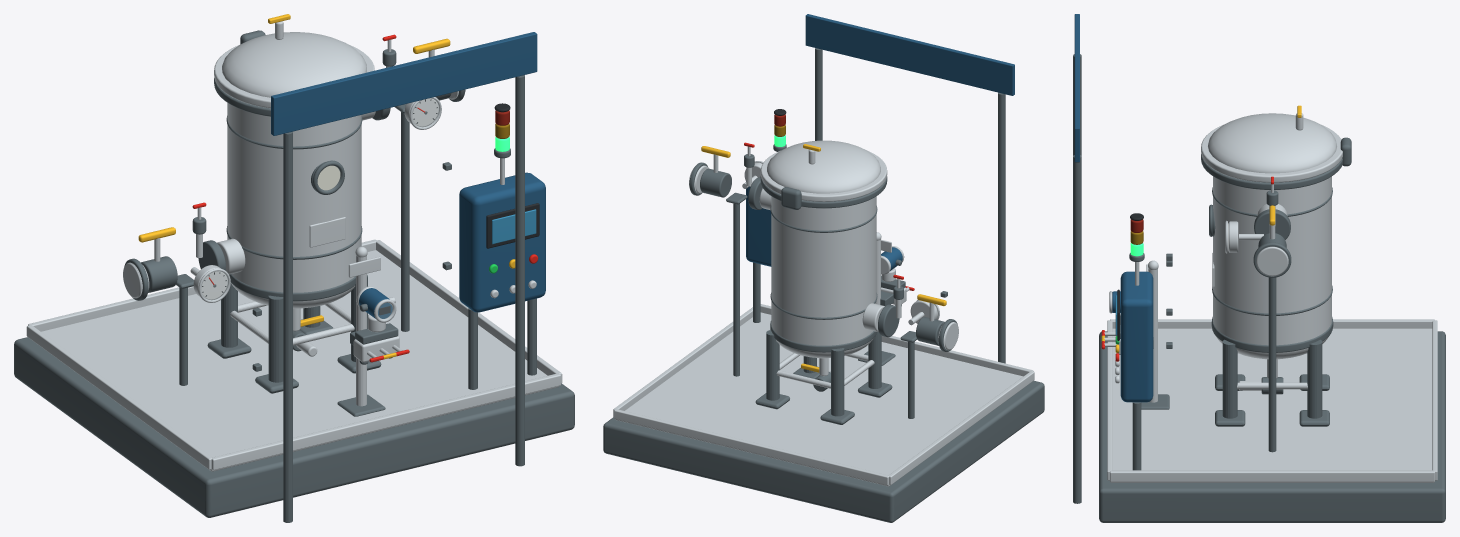
The model's file is DEG.glb.
3 views of the same model, side by side, from view 1: azimuth 30°, elevation 25°; view 2: azimuth 150°, elevation 25°; view 3: azimuth 270°, elevation 25° (orthographic). The views are drawn at different scales.
Visible parts, largest first — view 1: body; view 2: body; view 3: body.
Part boxes in pixels (x1,y1,x2,y2): body: (14, 14, 574, 522); body: (603, 14, 1044, 522); body: (1073, 14, 1445, 522).
Size of the model in its own units: 3.5 by 3.88 by 3.44.
